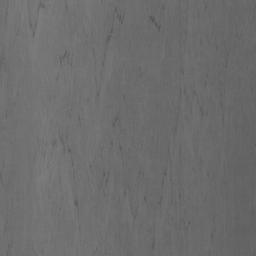Silk spot: (31, 0, 253, 256), (1, 0, 45, 38), (0, 53, 19, 129), (56, 49, 75, 84), (5, 208, 13, 256)
